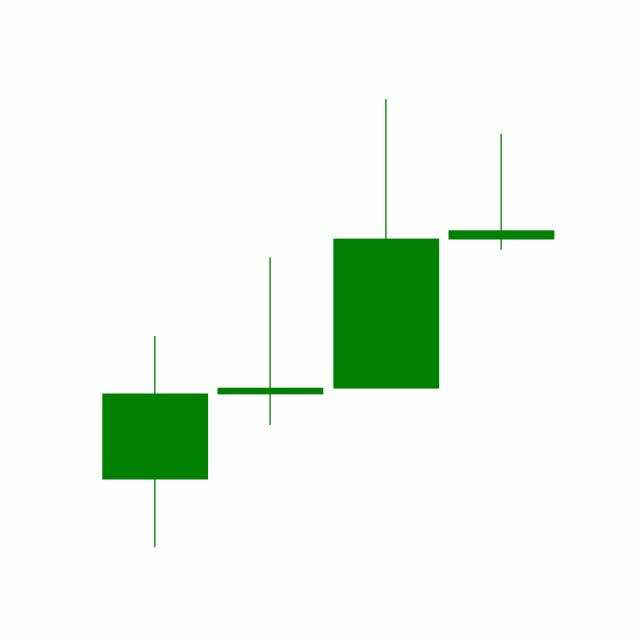Gravestone Doji: (443, 131, 559, 251)
